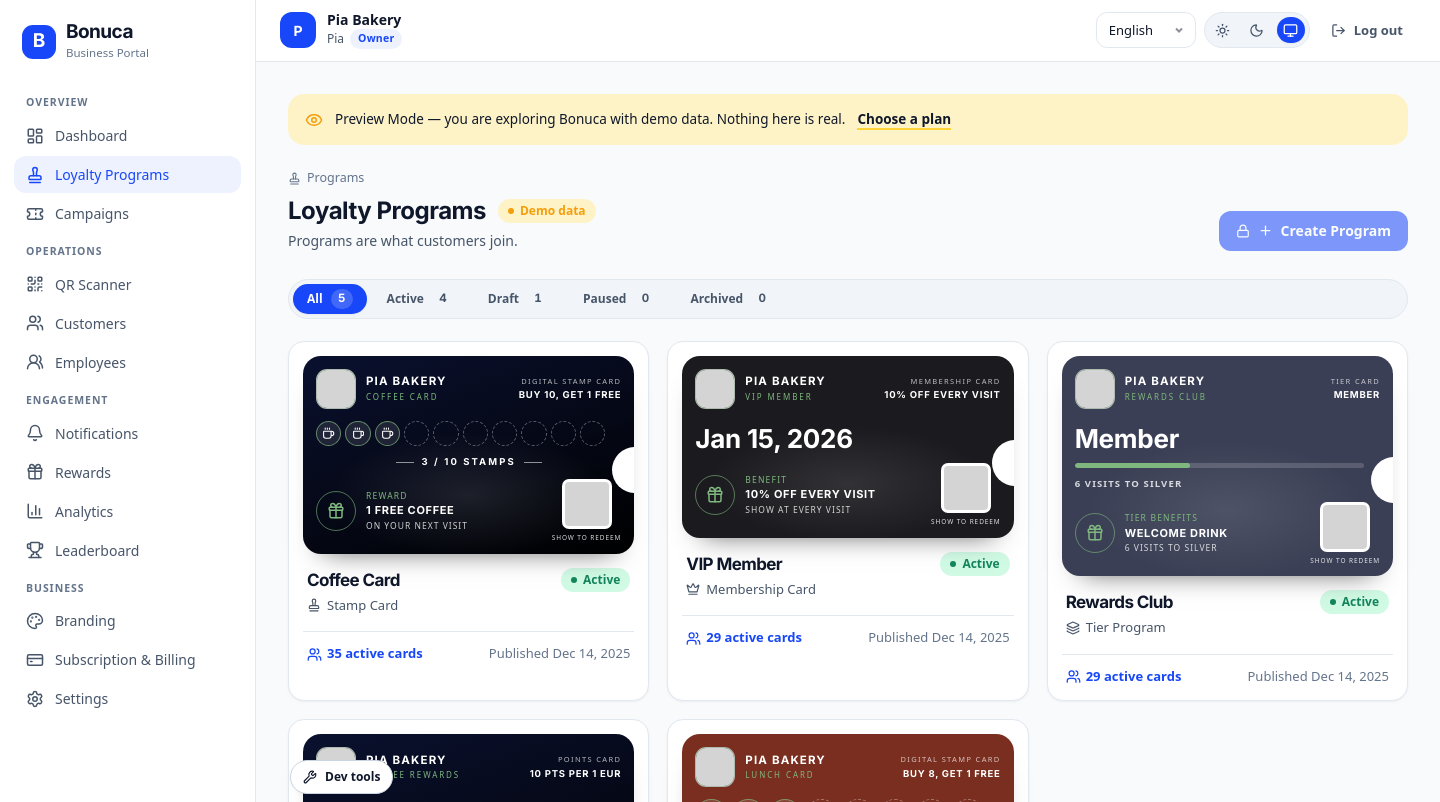
Test: Preview Mode (spec §2) › labels demo data and keeps locked buttons visible with the exact message
The width and height of the screenshot is (1440, 802).
expect the element with test id "preview-banner" is shown: met, box [288,94,1408,145]
expect the text "Coffee Card" is shown: met, box [366,391,447,403]
Click the button "Create Program".
click(1313, 231)  # box [1219,211,1408,251]
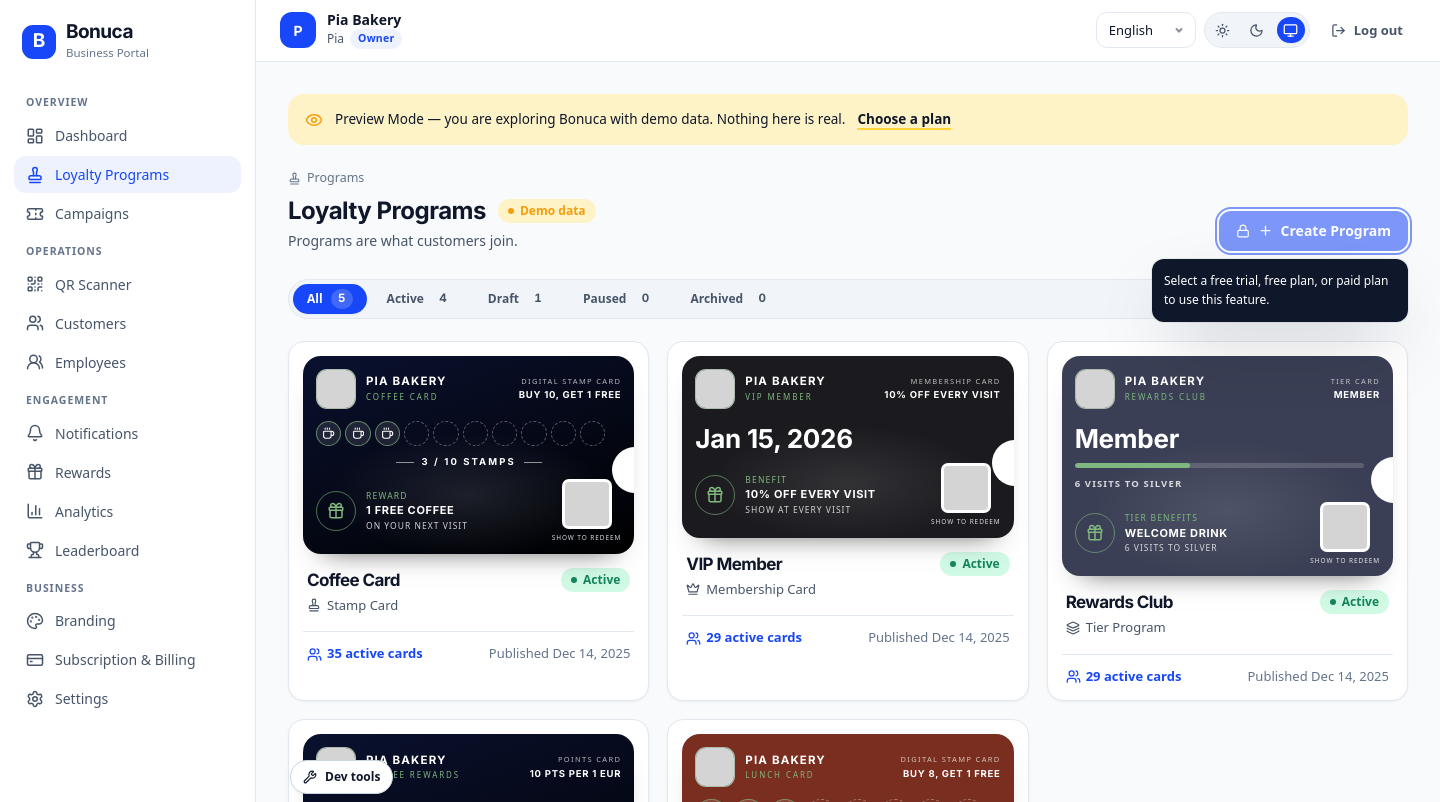
expect the tooltip "Select a free trial, free plan, or paid plan to use this feature." is shown: met, box [1152,259,1408,322]
